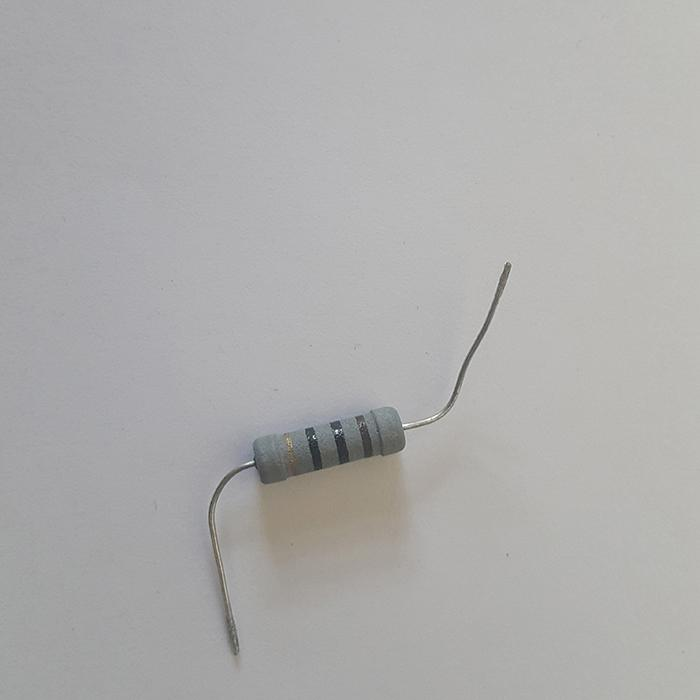resistor: (250, 402, 406, 483)
